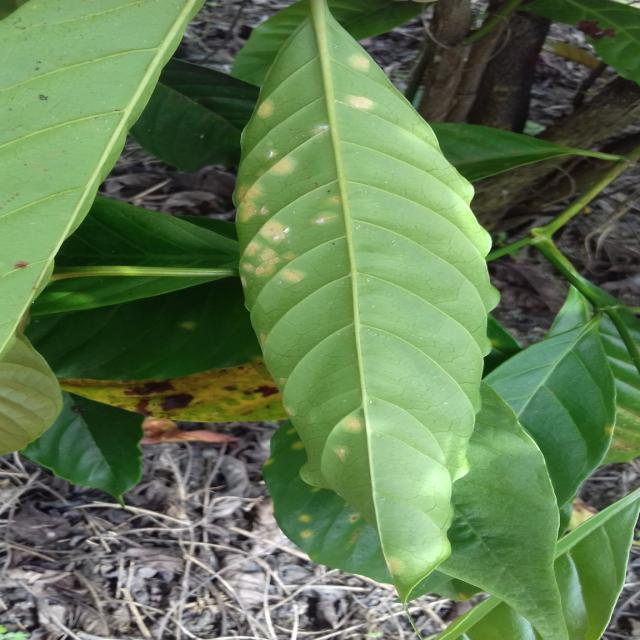Enfermedad-Roya: (231, 0, 499, 601)
